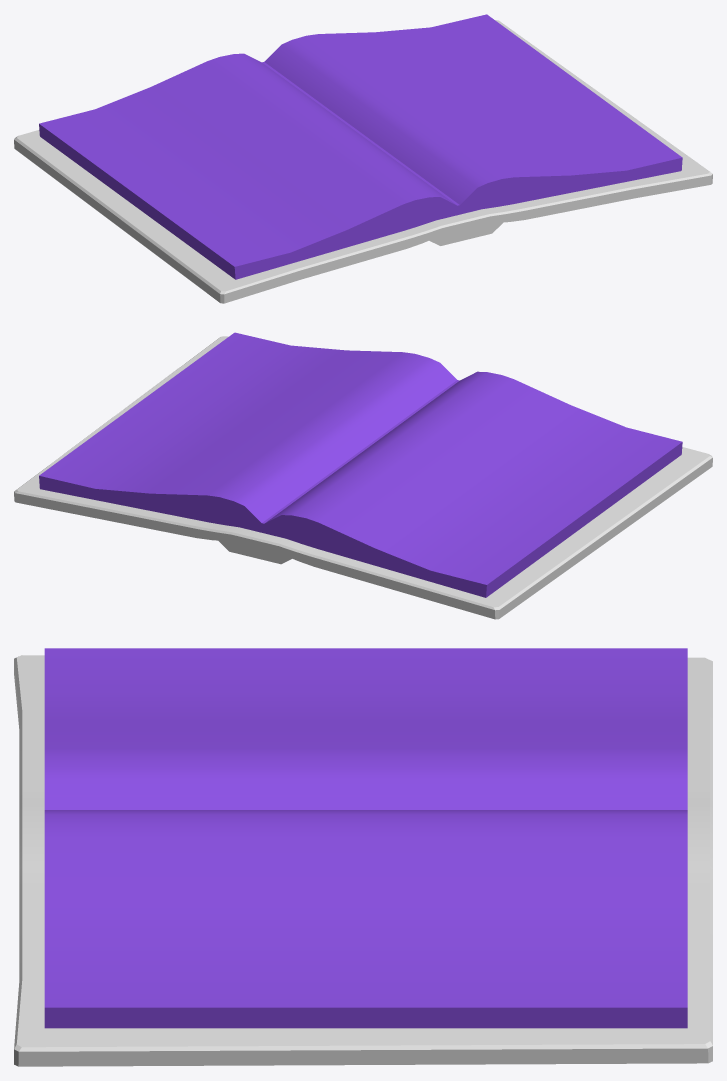
Rendered from MeshLivreMenu.fbx.
The picture shows the model from 3 angles, top to bottom: view 1: azimuth 30°, elevation 25°; view 2: azimuth 150°, elevation 25°; view 3: azimuth 270°, elevation 25°; orthographic projection. The views are drawn at different scales.
Parts seen in each view (by area): view 1: Cube; view 2: Cube; view 3: Cube.
Boxes of the visible parts, box(x1,y1,x2,y2) form: Cube: box(14, 14, 712, 303); Cube: box(14, 332, 712, 619); Cube: box(14, 648, 712, 1066).
Bounding box in the file's own units: 208 × 19.34 × 156.
